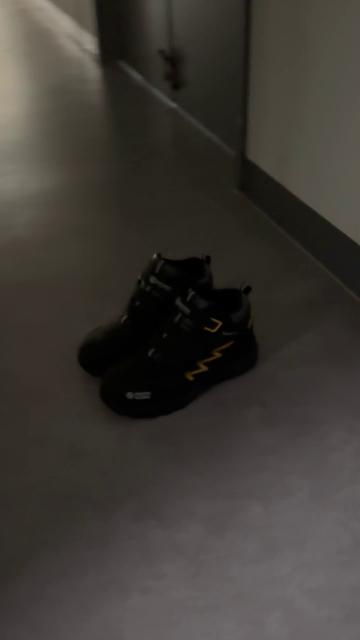shoe_worn: (97, 281, 261, 423), (77, 252, 217, 382)
